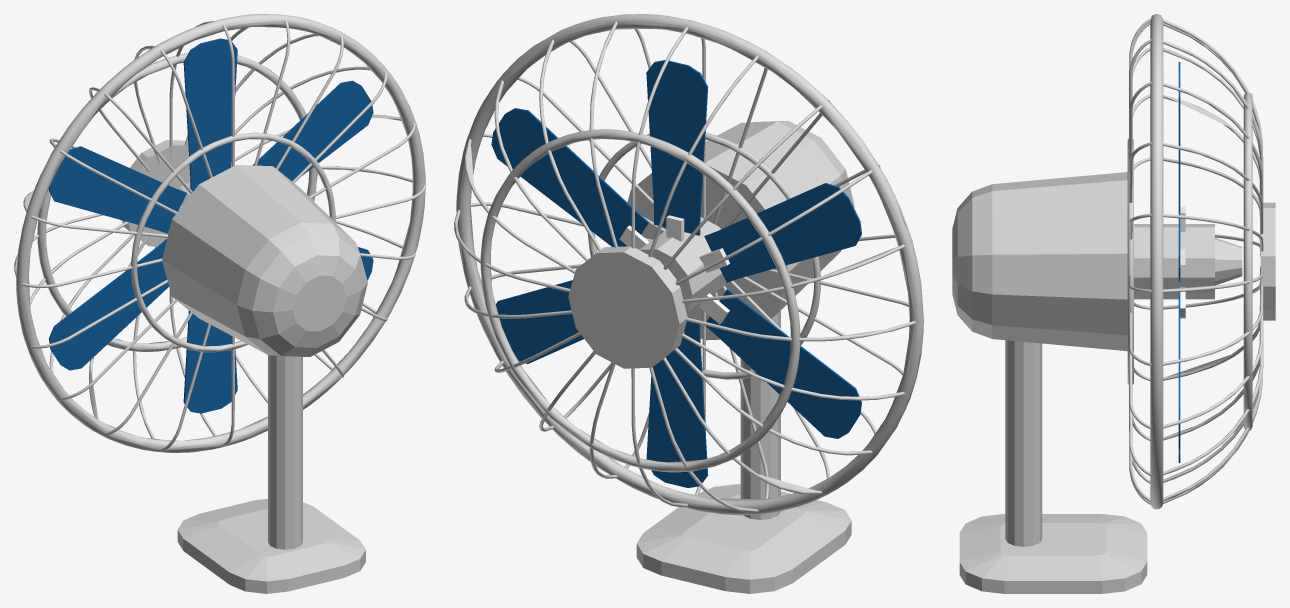
File: Fan.fbx
The picture shows the model from 3 angles, left to right: view 1: azimuth 30°, elevation 25°; view 2: azimuth 150°, elevation 25°; view 3: azimuth 270°, elevation 25°; orthographic projection. The views are drawn at different scales.
Parts seen in each view (by area): view 1: Fan Body, Blade; view 2: Fan Body, Blade; view 3: Fan Body, Blade.
Part boxes in pixels (x1=…): Fan Body: x1=14, y1=14, x2=425, y2=593; Blade: x1=49, y1=38, x2=373, y2=413; Fan Body: x1=454, y1=14, x2=923, y2=593; Blade: x1=491, y1=60, x2=861, y2=487; Fan Body: x1=952, y1=14, x2=1275, y2=593; Blade: x1=1178, y1=62, x2=1185, y2=462.
Bounding box in the file's own units: 18.97 × 22.06 × 12.38.
